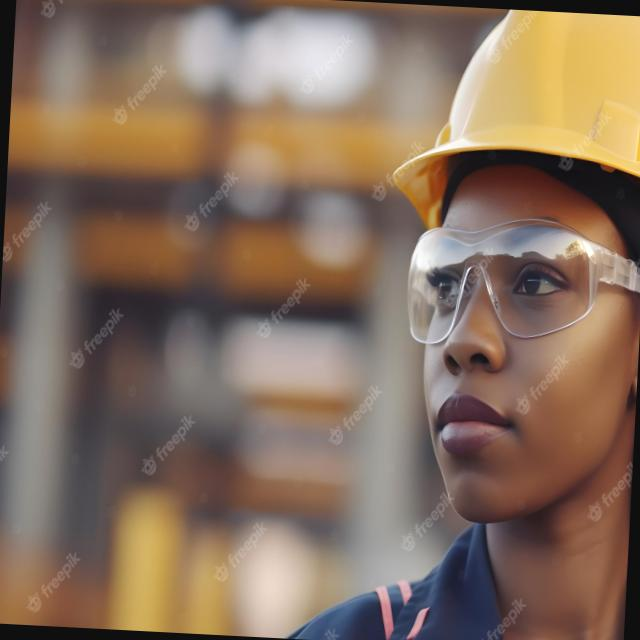goggles: (401, 213, 638, 351)
helmet: (392, 4, 640, 201)
no-vest: (287, 533, 628, 640)
